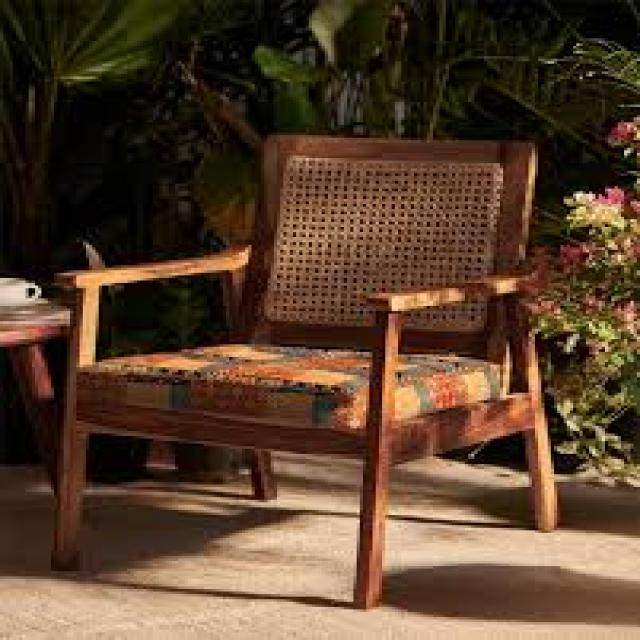chair: (22, 84, 637, 640)
